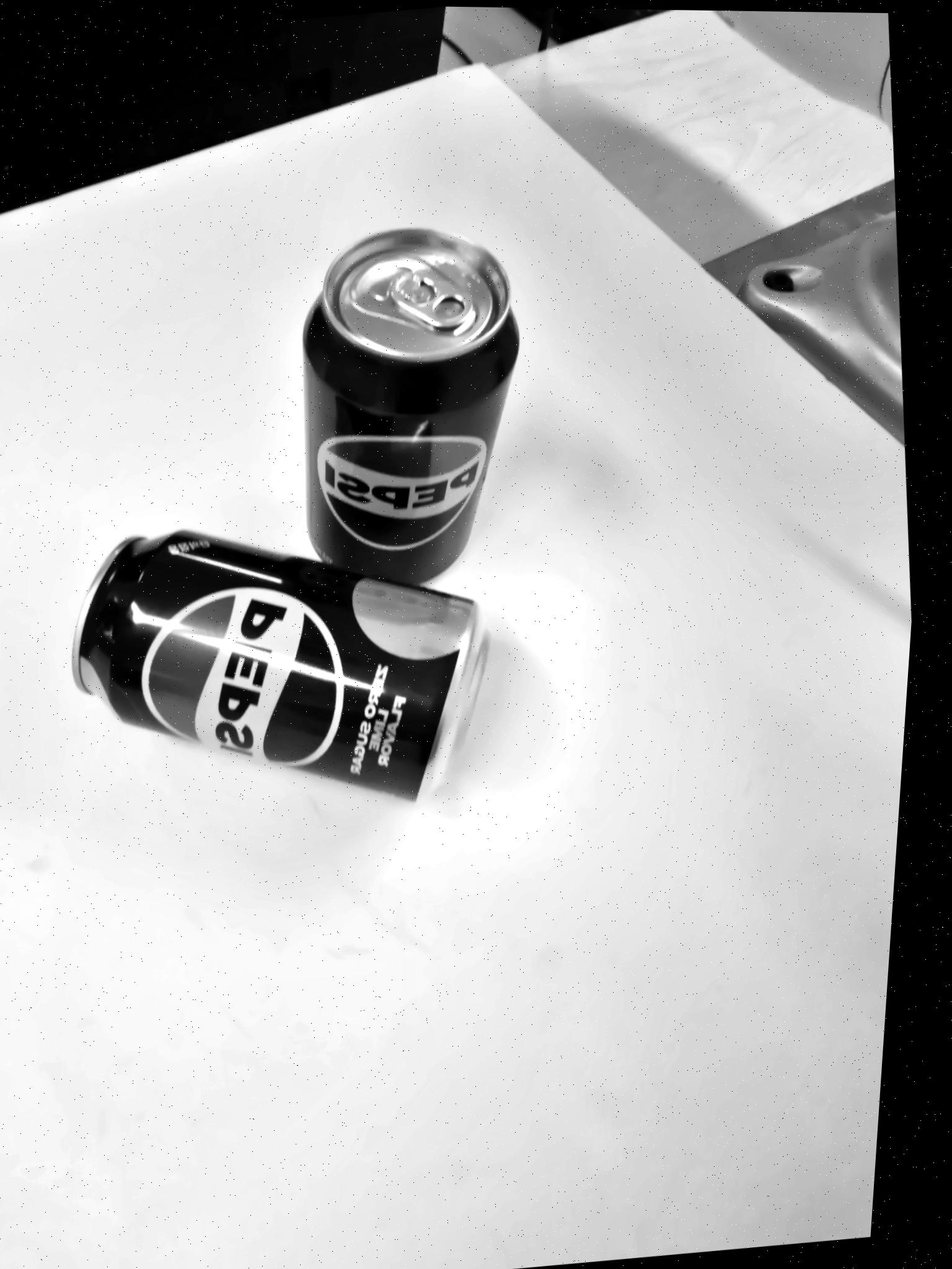can_pepsi: (306, 228, 514, 589)
can_pepsi_zero: (74, 528, 492, 801)
